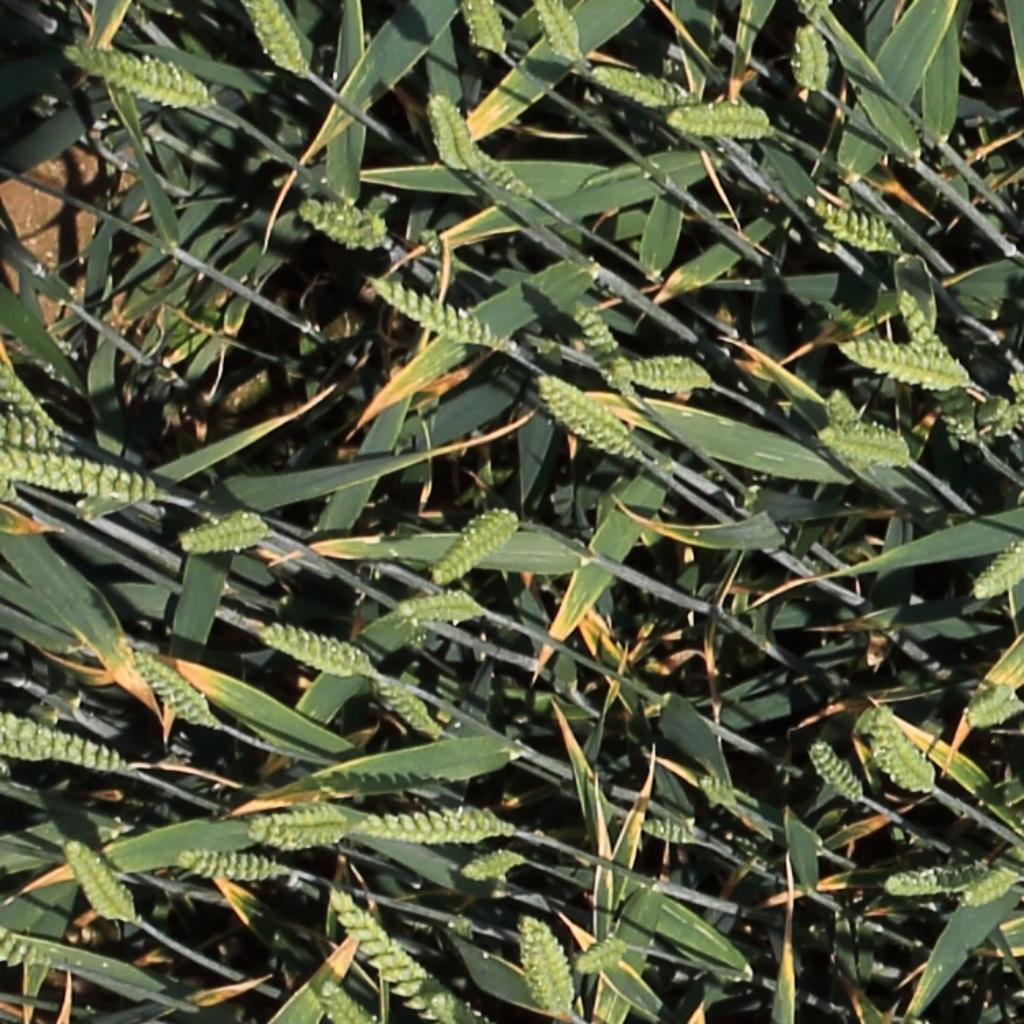0-0: (327, 881, 458, 1017), (896, 289, 982, 447), (364, 270, 525, 354), (61, 41, 217, 111), (0, 444, 162, 505), (834, 335, 984, 391), (349, 795, 513, 846), (0, 707, 126, 772), (428, 507, 525, 591), (129, 648, 224, 731), (535, 370, 639, 445), (253, 620, 377, 682), (547, 388, 645, 463), (510, 913, 581, 1015), (58, 836, 138, 924), (868, 700, 937, 794), (801, 192, 898, 254), (244, 803, 357, 856), (812, 419, 918, 472), (292, 194, 391, 250), (821, 389, 882, 476), (371, 671, 446, 740), (173, 843, 289, 887), (881, 857, 994, 901), (244, 1, 311, 75), (613, 347, 714, 396), (0, 357, 62, 436), (666, 97, 776, 140), (176, 510, 273, 555), (805, 740, 866, 811), (424, 87, 473, 173), (589, 66, 696, 105), (465, 145, 533, 202), (571, 298, 627, 361), (391, 590, 488, 625), (0, 415, 79, 457), (972, 540, 1024, 603), (312, 978, 383, 1024), (789, 20, 832, 95), (533, 0, 583, 64), (964, 680, 1022, 735), (461, 0, 509, 62), (573, 928, 631, 979), (458, 844, 529, 885), (957, 867, 1022, 910), (0, 922, 52, 972), (974, 393, 1024, 440), (423, 993, 496, 1024), (636, 813, 697, 848), (696, 772, 742, 814), (0, 479, 33, 514), (794, 0, 836, 27)
